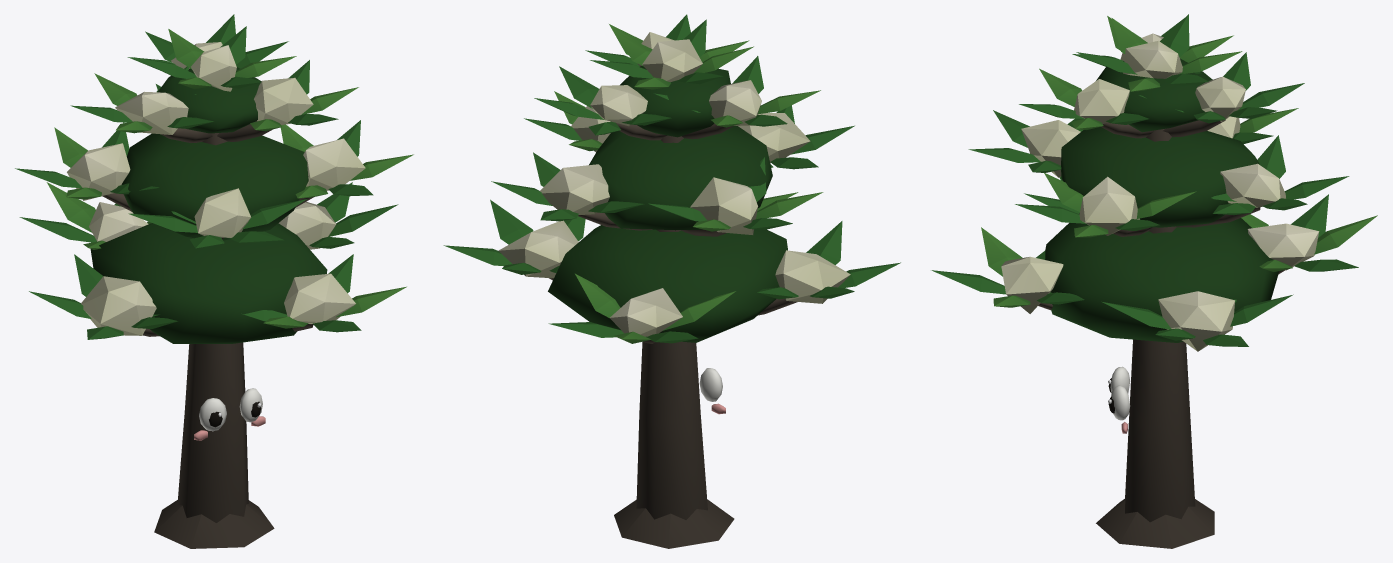
Rendered from milk_flower.glb.
The picture shows the model from 3 angles, left to right: view 1: azimuth 30°, elevation 25°; view 2: azimuth 150°, elevation 25°; view 3: azimuth 270°, elevation 25°; orthographic projection.
Parts seen in each view (by area): view 1: milk_tree, milk_bloom; view 2: milk_tree, milk_bloom; view 3: milk_tree, milk_bloom.
Part boxes in pixels (bbox=[...]): milk_tree: bbox=[15, 14, 413, 548]; milk_bloom: bbox=[67, 42, 365, 335]; milk_tree: bbox=[443, 14, 900, 548]; milk_bloom: bbox=[498, 32, 850, 336]; milk_tree: bbox=[931, 14, 1377, 548]; milk_bloom: bbox=[1001, 33, 1319, 351].
Size of the model in its own units: 0.9599 by 1.19 by 1.
